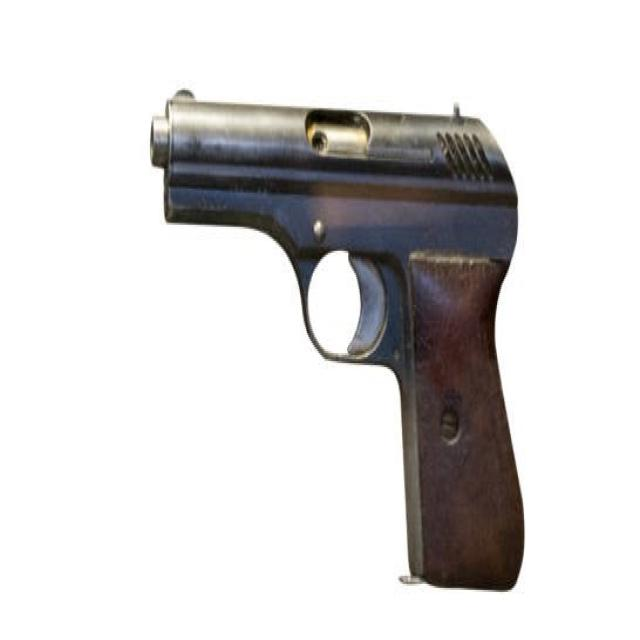pistol: (147, 86, 534, 604)
